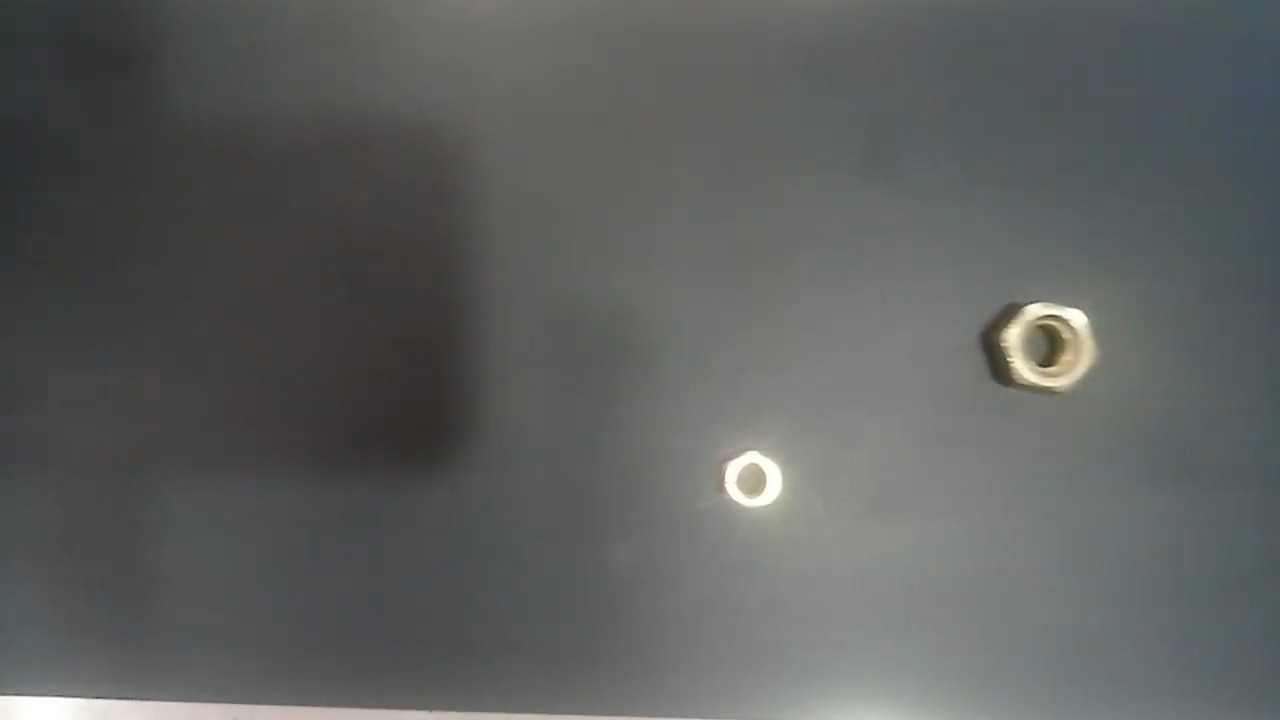Bolt: (999, 299, 1098, 396), (722, 448, 785, 511)
